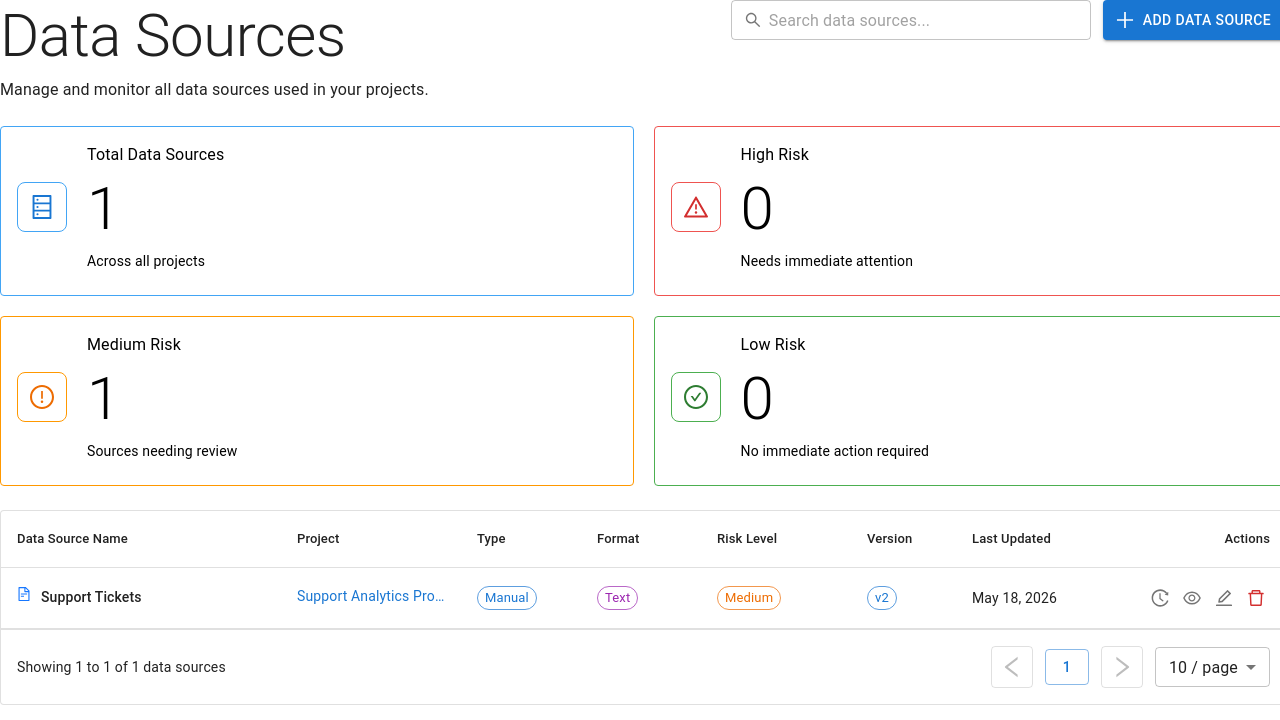
Scenario: DataSources page › opens all selected compliance findings in a popup
Check: the heading "Support Tickets" is shown, box [41, 587, 142, 609]
Click the button named "Preview Support Tickets". click: [1192, 598]
box: [1178, 584, 1206, 612]
(page scrolled)
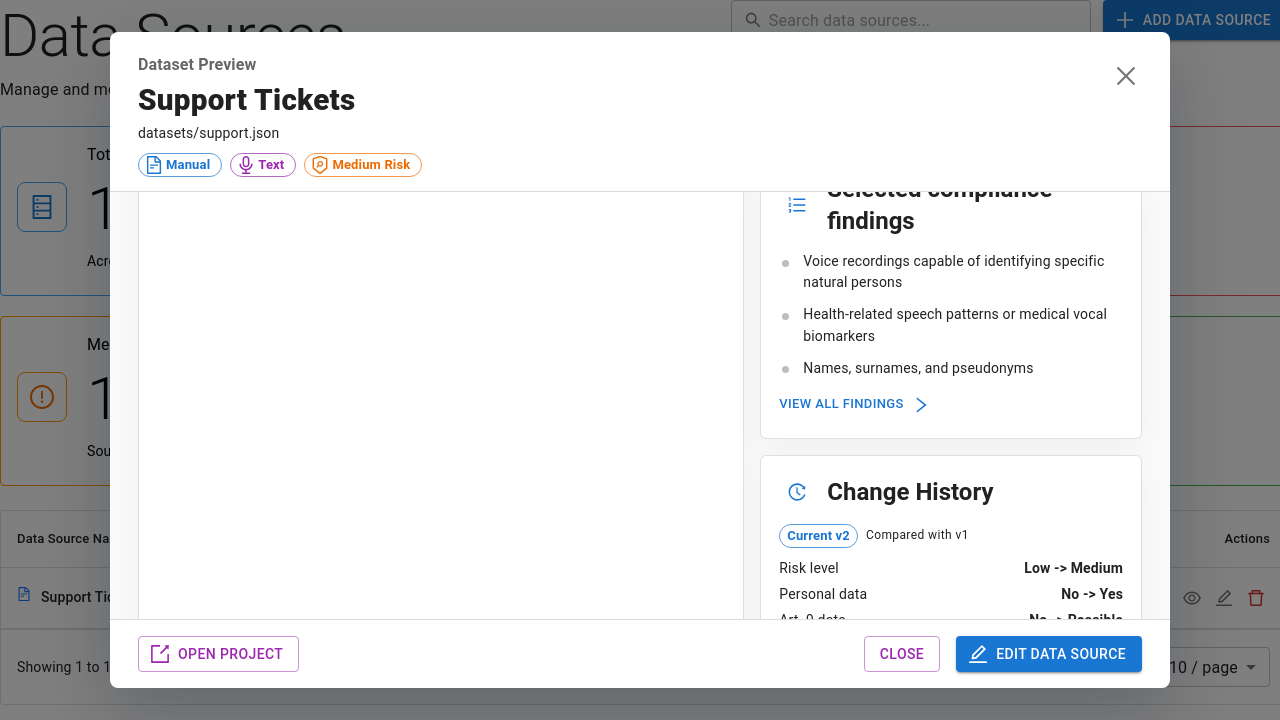
Check: the text "Synthetic speech / voice clone disclosure issue" is not shown
Click the button "View all findings". click: [854, 405]
box: [779, 389, 928, 420]
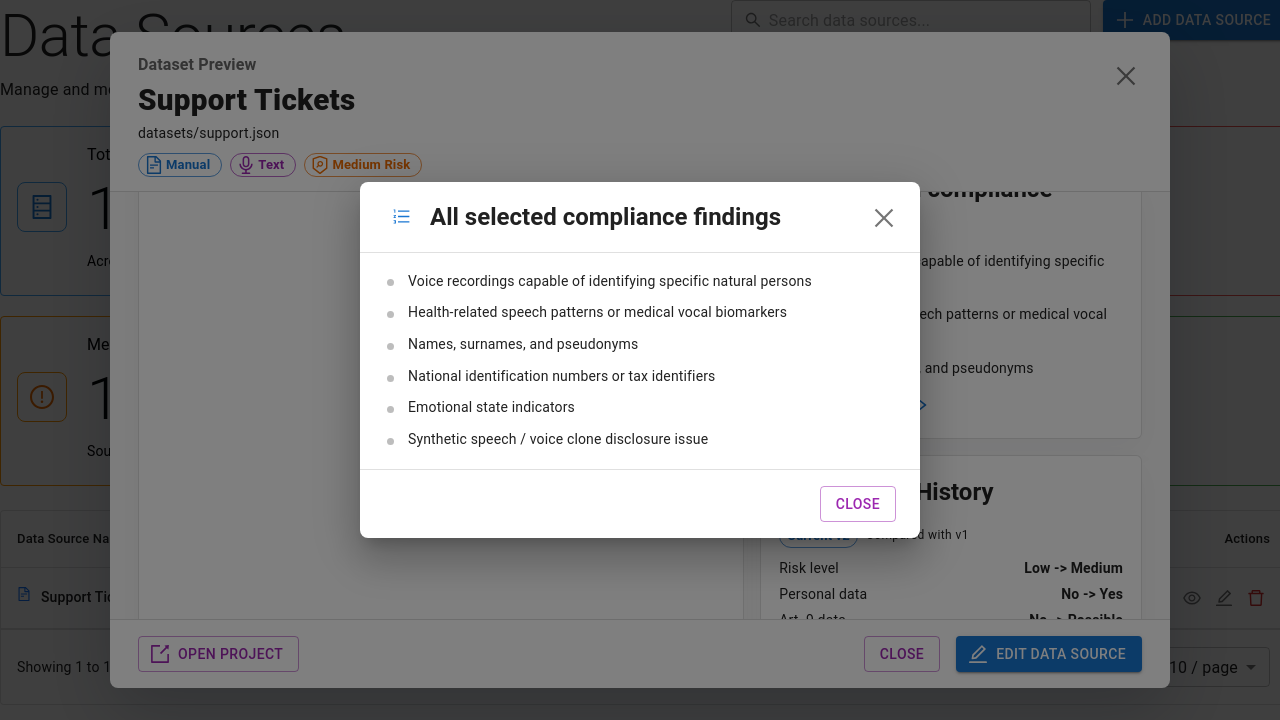
Check: the text "National identification numbers or tax identifiers" is shown, box [408, 368, 716, 384]
Check: the text "Emotional state indicators" is shown, box [408, 399, 575, 415]
Check: the text "Synthetic speech / voice clone disclosure issue" is shown, box [408, 431, 708, 447]
Click the button named "Close findings popup". click: [884, 218]
box: [864, 198, 904, 238]
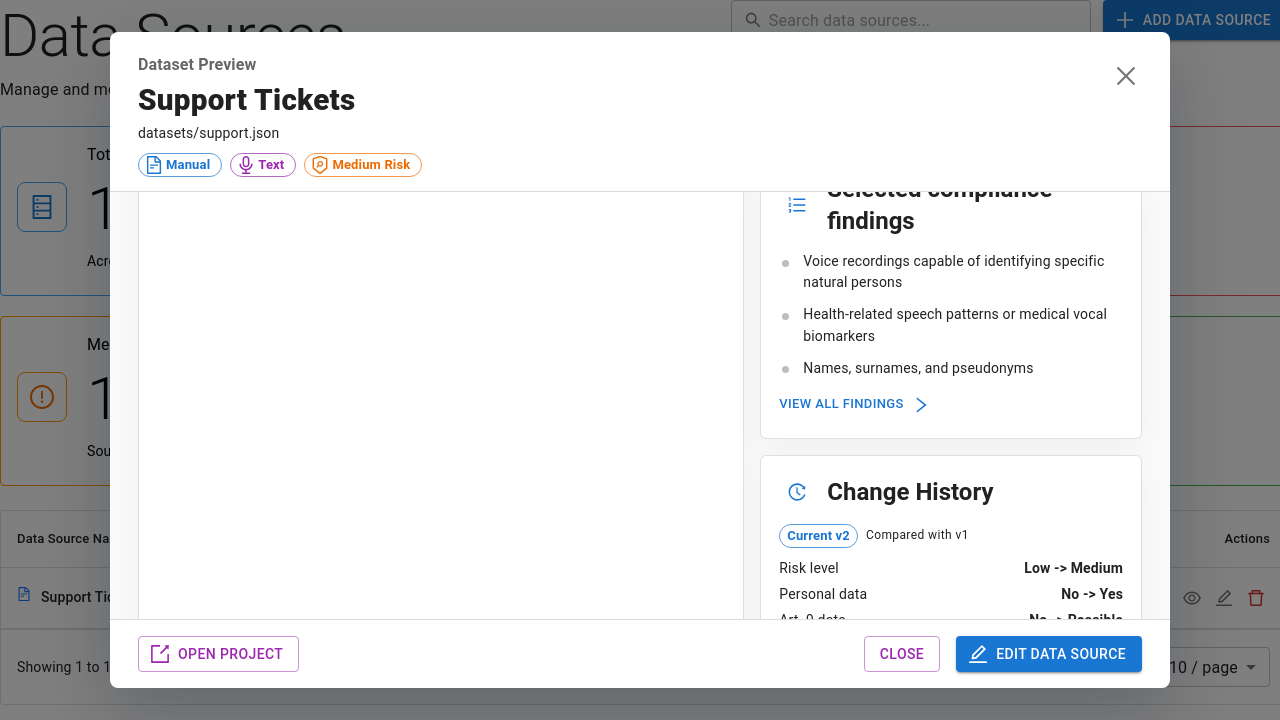
Check: the text "All selected compliance findings" is gone
